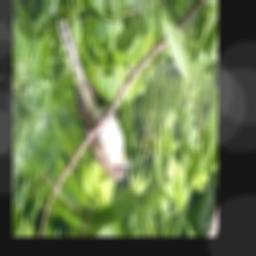Cuckoo: (55, 18, 130, 181)
